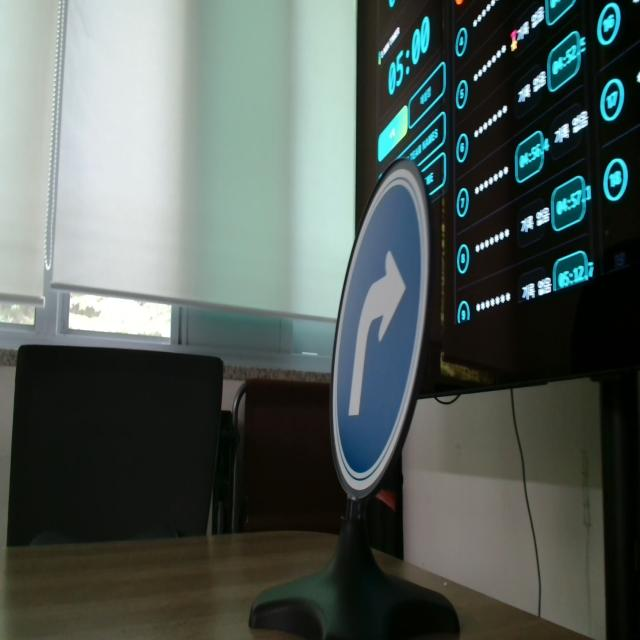right_dierection: (323, 167, 435, 501)
